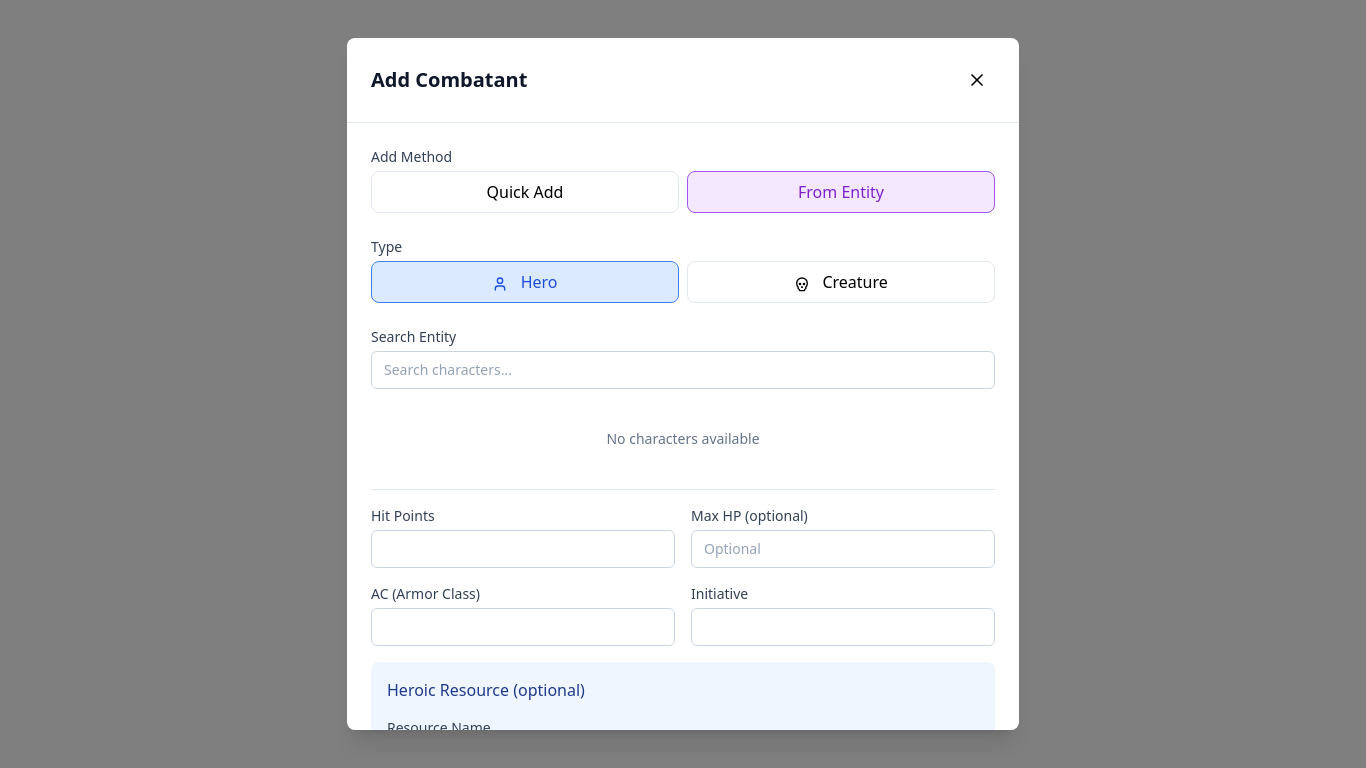
Scenario: AddCombatantModal - Creature-Specific Fields › should show threat level field when Creature type is selected
The image size is (1366, 768).
Click the button "Creature" at (841, 282), box [687, 261, 995, 303]
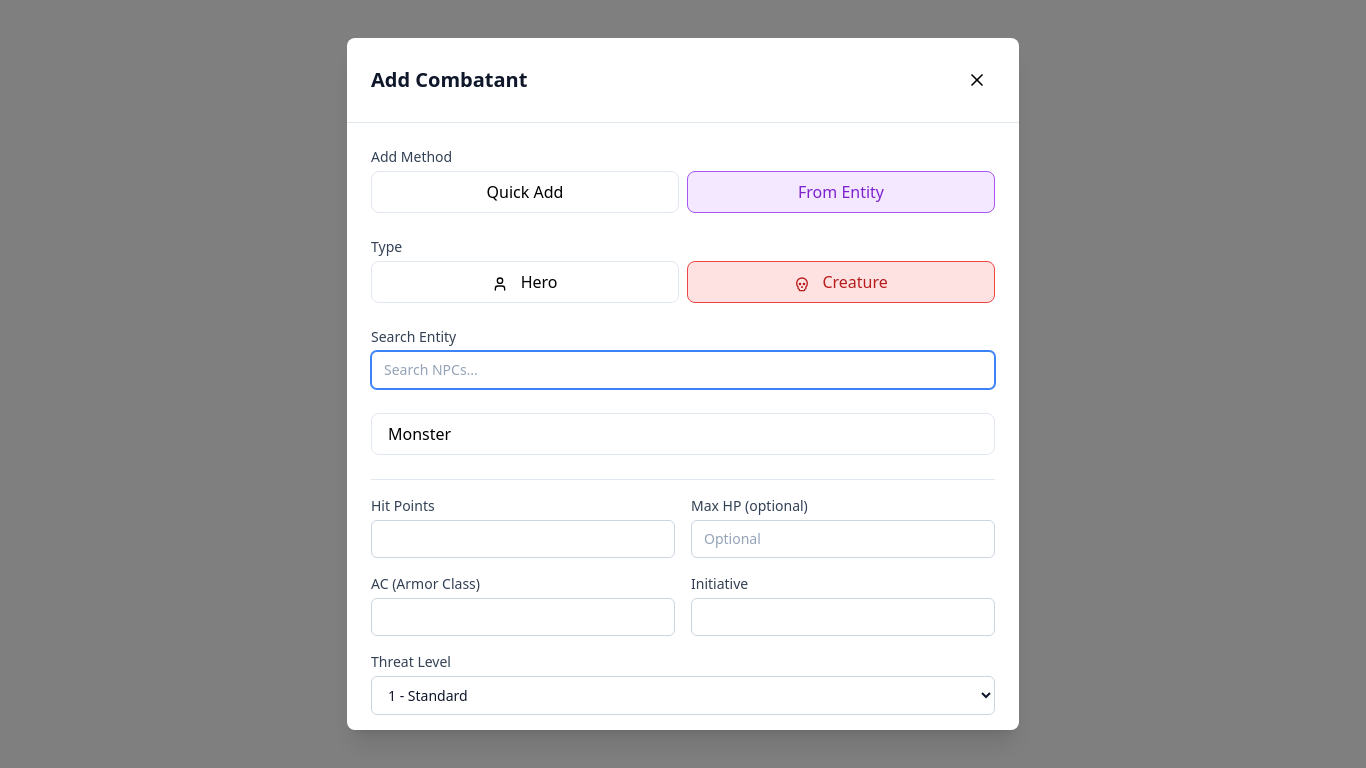
Expected: the dropdown labelled "Threat Level" is shown, [371, 676, 995, 715]
